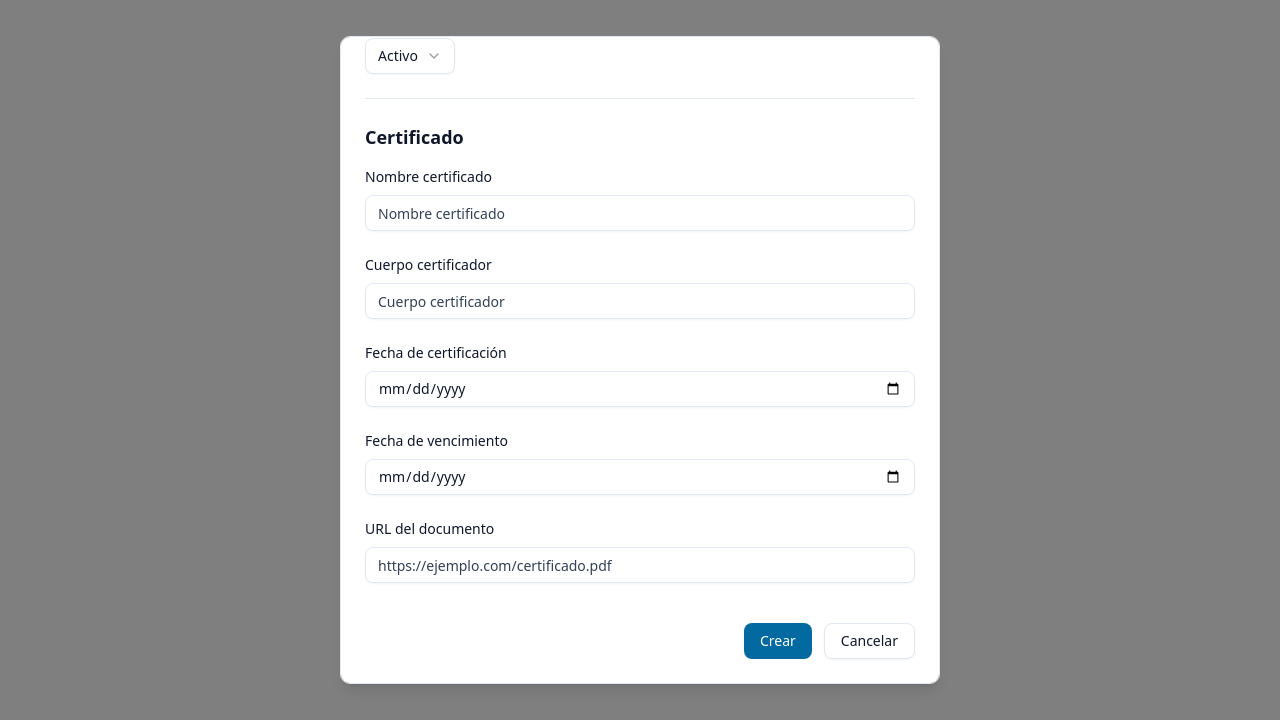
Test: CreateProveedorForm - Unit › valida que los campos obligatorios sean requeridos
This screenshot has width=1280, height=720.
(page scrolled)
Click the button "Crear" at (778, 641), box [744,623,812,659]
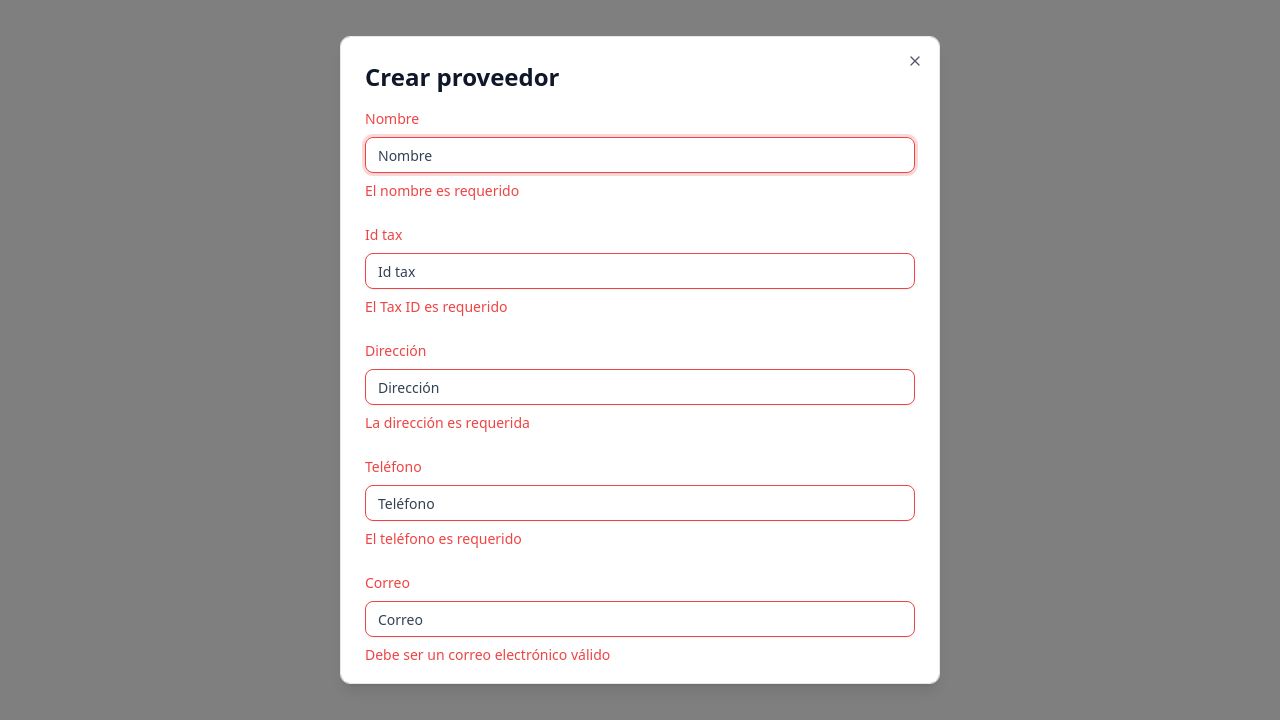
Now the text "El nombre es requerido" is shown, box [365,181,519,200]
Now the text "El Tax ID es requerido" is shown, box [365,297,508,316]
Now the text "La dirección es requerida" is shown, box [365,413,530,432]
